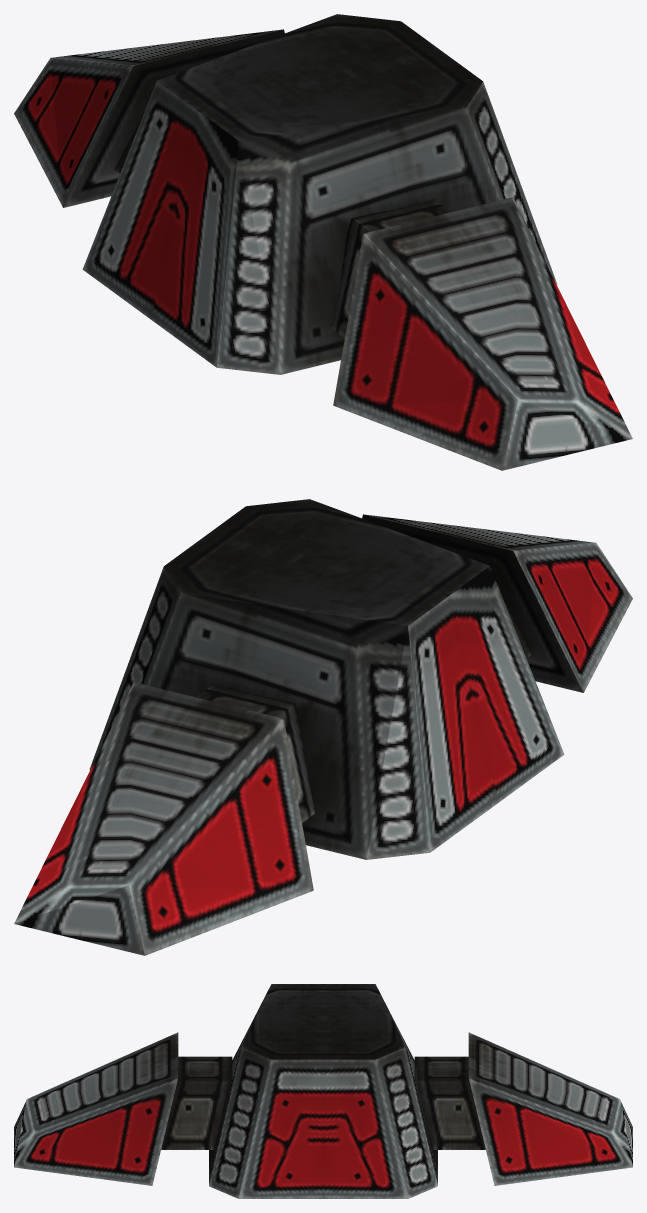
File: MortarBody_Low.obj
3 views of the same model, one above another, from view 1: azimuth 30°, elevation 25°; view 2: azimuth 150°, elevation 25°; view 3: azimuth 270°, elevation 25° (orthographic). The views are drawn at different scales.
Visible parts, largest first — view 1: MortarBody:sci_fi_turret_4; view 2: MortarBody:sci_fi_turret_4; view 3: MortarBody:sci_fi_turret_4.
Part boxes in pixels (<box>): MortarBody:sci_fi_turret_4: <box>14,14,632,470</box>; MortarBody:sci_fi_turret_4: <box>14,499,632,955</box>; MortarBody:sci_fi_turret_4: <box>14,984,632,1198</box>.
Bounding box in the file's own units: 21.65 × 11.9 × 53.71.
Materials: 1 (1 with a texture image).
